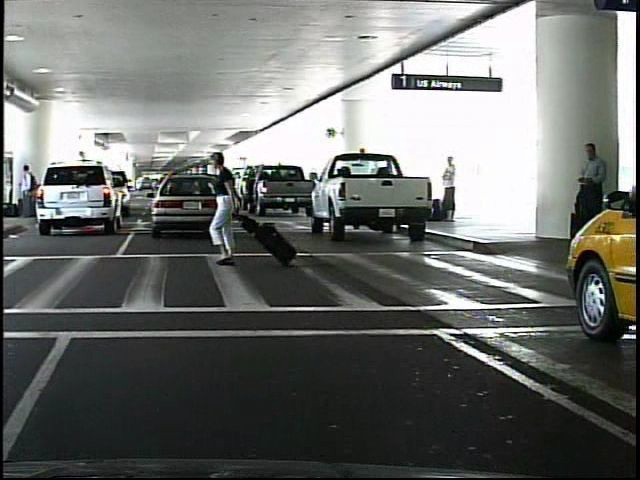person: (566, 138, 609, 256), (212, 154, 253, 268), (438, 153, 463, 223), (21, 162, 39, 223)
